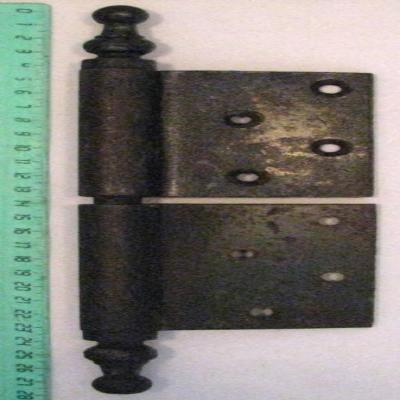other: (75, 6, 379, 394)
